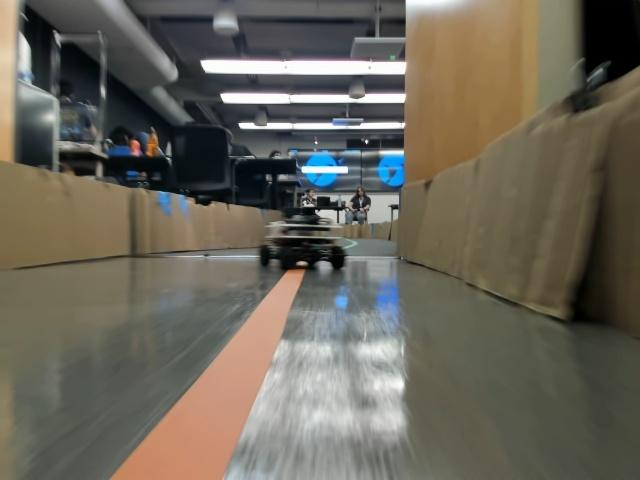Car: (261, 206, 346, 269)
